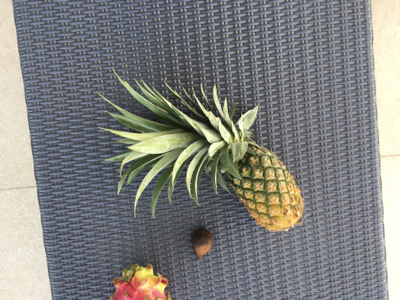pineapple: (105, 66, 305, 238)
snake fruit: (191, 229, 215, 259)
